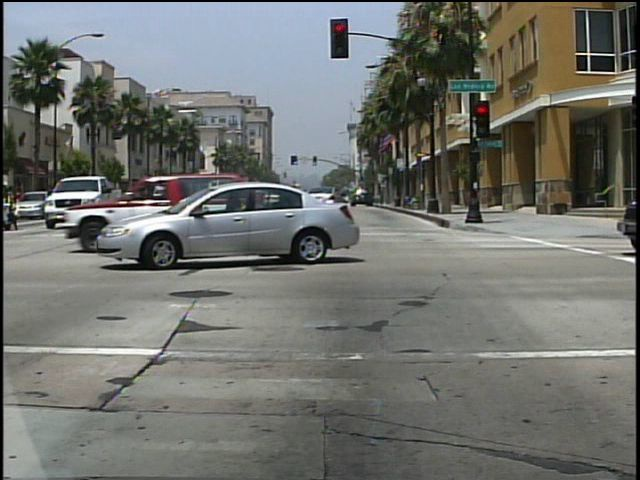person: (1, 179, 21, 233)
